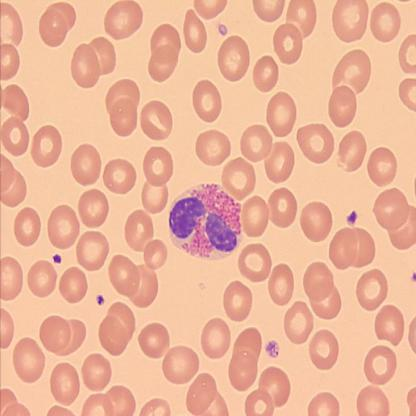Eosinophil: (169, 183, 242, 258)
